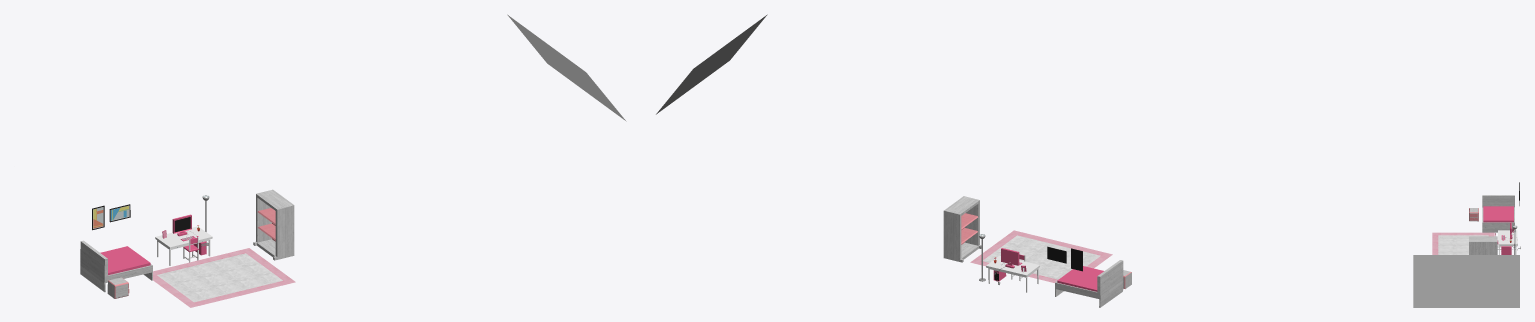
File: bedroom.obj
The picture shows the model from 3 angles, left to right: view 1: azimuth 30°, elevation 25°; view 2: azimuth 150°, elevation 25°; view 3: azimuth 270°, elevation 25°; orthographic projection. The views are drawn at different scales.
Parts seen in each view (by area): view 1: bedRugTop_mesh1398269573.001, mesh1870665445, bedRugOuter_mesh1398269573, room2.001_mesh1513493504.044, bedFrame_mesh246572757, bedMatress_mesh246572757.001, mesh834466; view 2: mesh1870665445, bedRugTop_mesh1398269573.001, room2.001_mesh1513493504.044, bedFrame_mesh246572757, bedRugOuter_mesh1398269573, bedMatress_mesh246572757.001, mesh834466; view 3: room2.001_mesh1513493504.044, bedFrame_mesh246572757, bedRugTop_mesh1398269573.001, mesh1870665445, bedMatress_mesh246572757.001, bedRugOuter_mesh1398269573, mesh834466.
Boxes of the visible parts, left/top/right/bottom form: bedRugTop_mesh1398269573.001: left=157, top=253, right=282, bottom=302; mesh1870665445: left=253, top=189, right=294, bottom=260; bedRugOuter_mesh1398269573: left=153, top=248, right=295, bottom=307; room2.001_mesh1513493504.044: left=507, top=14, right=626, bottom=121; bedFrame_mesh246572757: left=80, top=240, right=152, bottom=292; bedMatress_mesh246572757.001: left=100, top=246, right=150, bottom=275; mesh834466: left=155, top=226, right=212, bottom=249; mesh1870665445: left=943, top=196, right=981, bottom=262; bedRugTop_mesh1398269573.001: left=983, top=235, right=1100, bottom=279; room2.001_mesh1513493504.044: left=656, top=14, right=767, bottom=114; bedFrame_mesh246572757: left=1055, top=260, right=1123, bottom=307; bedRugOuter_mesh1398269573: left=970, top=230, right=1112, bottom=282; bedMatress_mesh246572757.001: left=1057, top=266, right=1103, bottom=291; mesh834466: left=986, top=255, right=1039, bottom=276; room2.001_mesh1513493504.044: left=1413, top=255, right=1519, bottom=307; bedFrame_mesh246572757: left=1482, top=195, right=1514, bottom=232; bedRugTop_mesh1398269573.001: left=1438, top=235, right=1488, bottom=254; mesh1870665445: left=1469, top=236, right=1497, bottom=254; bedMatress_mesh246572757.001: left=1483, top=206, right=1513, bottom=222; bedRugOuter_mesh1398269573: left=1432, top=232, right=1494, bottom=254; mesh834466: left=1498, top=230, right=1517, bottom=245.
Size of the model in its own units: 0.7853 by 0.2639 by 0.2244.
23 materials, 7 textured.
